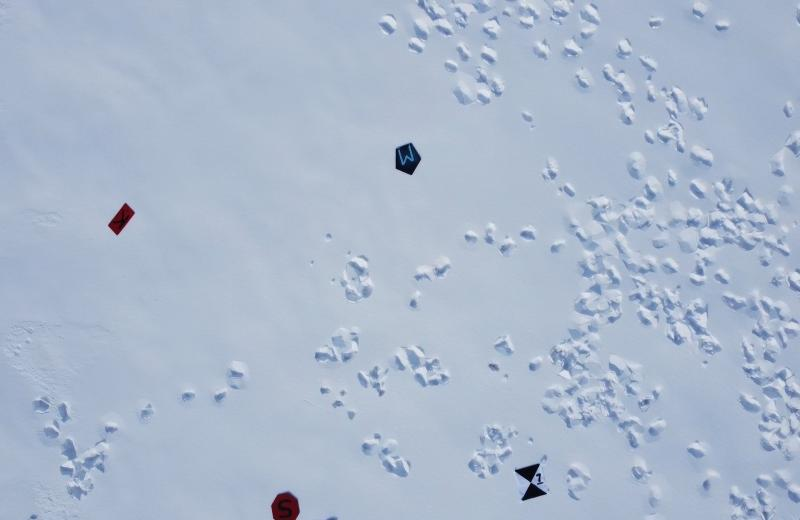Octagon: (279, 491, 312, 520)
Pentagon: (405, 141, 438, 179)
Rectangle: (118, 200, 148, 235)
